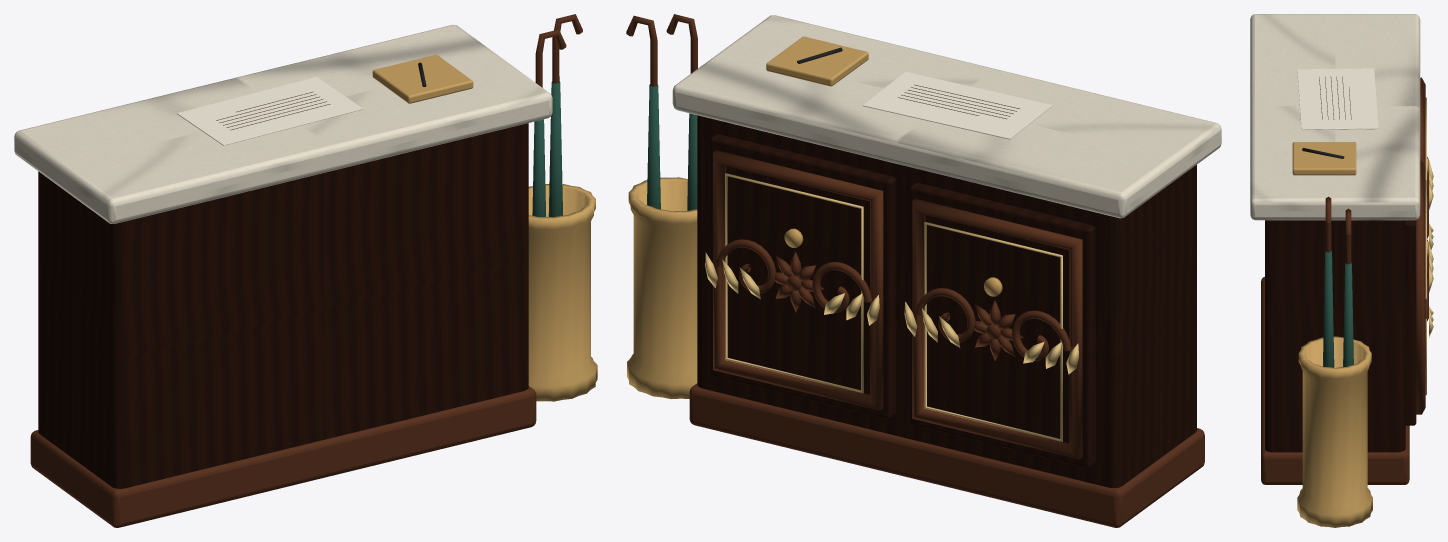
File: hotel-porter-cabinet.glb
3 renders of one model, left to right at view 1: azimuth 30°, elevation 25°; view 2: azimuth 150°, elevation 25°; view 3: azimuth 270°, elevation 25°, orthographic. The views are drawn at different scales.
Parts seen in each view (by area): view 1: French walnut • quarter-sawn grain.004, Ivory marble • mineral veining.004, Dark carved walnut.004, Warm satin brass.004, Warm uncoated paper.004, Bottle green leather writing pad.004, Faded sepia ink.004; view 2: French walnut • quarter-sawn grain.004, Dark carved walnut.004, Ivory marble • mineral veining.004, Warm satin brass.004, Pale gilt ornament.004, Warm uncoated paper.004, Bottle green leather writing pad.004, Faded sepia ink.004; view 3: Ivory marble • mineral veining.004, French walnut • quarter-sawn grain.004, Warm satin brass.004, Dark carved walnut.004, Warm uncoated paper.004, Bottle green leather writing pad.004, Pale gilt ornament.004, Faded sepia ink.004.
Part boxes in pixels (box(x1,y1,x2,y2)): French walnut • quarter-sawn grain.004: box(38, 123, 528, 488); Ivory marble • mineral veining.004: box(14, 25, 552, 223); Dark carved walnut.004: box(30, 14, 582, 527); Warm satin brass.004: box(372, 54, 597, 401); Warm uncoated paper.004: box(177, 76, 362, 145); Bottle green leather writing pad.004: box(532, 81, 562, 217); Faded sepia ink.004: box(216, 92, 330, 130); French walnut • quarter-sawn grain.004: box(697, 115, 1196, 488); Dark carved walnut.004: box(626, 14, 1204, 527); Ivory marble • mineral veining.004: box(672, 15, 1221, 218); Warm satin brass.004: box(627, 36, 1002, 398); Pale gilt ornament.004: box(705, 173, 1078, 441); Warm uncoated paper.004: box(862, 71, 1052, 139); Bottle green leather writing pad.004: box(647, 84, 697, 210); Faded sepia ink.004: box(898, 84, 1019, 118); Ivory marble • mineral veining.004: box(1250, 14, 1420, 220); French walnut • quarter-sawn grain.004: box(1265, 220, 1416, 452); Warm satin brass.004: box(1292, 142, 1428, 527); Dark carved walnut.004: box(1261, 77, 1428, 484); Warm uncoated paper.004: box(1297, 68, 1378, 129); Bottle green leather writing pad.004: box(1323, 250, 1353, 367); Pale gilt ornament.004: box(1425, 97, 1433, 395); Faded sepia ink.004: box(1319, 76, 1351, 119).
Bounding box in the file's own units: 1.75 × 1.12 × 0.6053.
9 materials, 2 textured.
